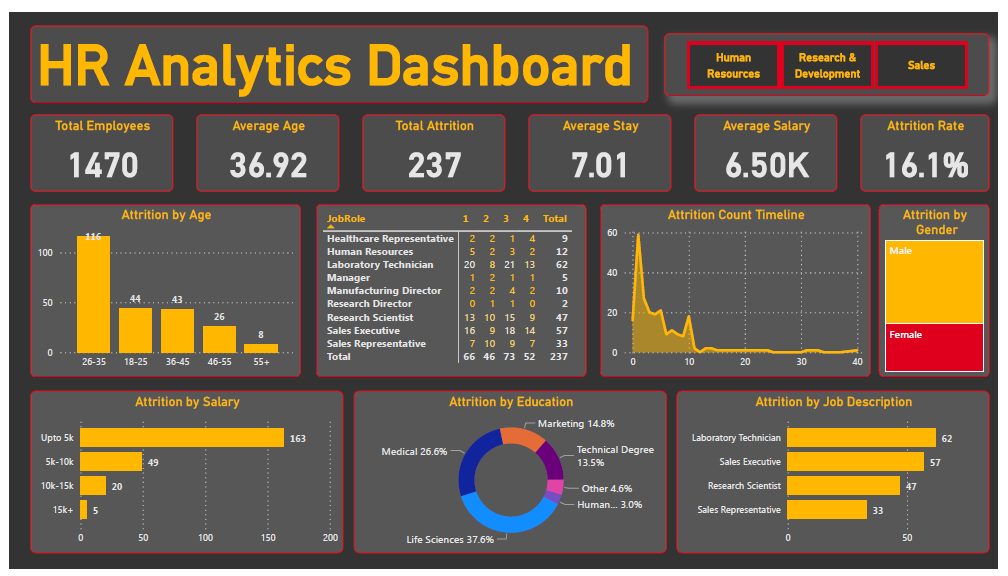

Layout of this report page (visuals, bound fields, positions):
{"tool":"powerbi","page":{"name":"Page 1","canvas":[1280,720],"ordinal":0},"visuals":[{"type":"card","title":"Total Employees","fields":{"Values":["Sum(HR_Analytics.EmployeeCount)"]},"box":[27.4,132,185,100],"z":0},{"type":"card","title":"Total Attrition","fields":{"Values":["Sum(HR_Analytics.Attrion Count)"]},"box":[457.1,132.3,185,99.4],"z":1000},{"type":"card","title":"Attrition Rate","fields":{"Values":["HR_Analytics.Avg Attrion"]},"box":[1101.6,132.3,167,99.4],"z":2000},{"type":"card","title":"Average Age","fields":{"Values":["Avg(HR_Analytics.Age)"]},"box":[242.2,132.3,185,99.4],"z":3000},{"type":"card","title":"Average Salary","fields":{"Values":["Avg(HR_Analytics.MonthlyIncome)"]},"box":[886.8,132.3,185,99.4],"z":4000},{"type":"card","title":"Average Stay","fields":{"Values":["Avg(HR_Analytics.YearsAtCompany)"]},"box":[671.9,132.3,185,99.4],"z":5000},{"type":"donutChart","title":"Attrition by Education","fields":{"Category":["HR_Analytics.EducationField"],"Y":["Sum(HR_Analytics.Attrion Count)"]},"box":[445.7,489.7,405,210],"z":6000},{"type":"columnChart","title":"Attrition by Age","fields":{"Category":["HR_Analytics.AgeGroup"],"Y":["Sum(HR_Analytics.Attrion Count)"]},"box":[27.4,247.7,349.9,224.6],"z":7000},{"type":"pivotTable","fields":{"Rows":["HR_Analytics.JobRole"],"Columns":["HR_Analytics.JobSatisfaction"],"Values":["Sum(HR_Analytics.Attrion Count)"]},"box":[397.4,247.7,349.9,224.6],"z":8000},{"type":"barChart","title":"Attrition by Salary","fields":{"Category":["HR_Analytics.SalarySlab"],"Y":["Sum(HR_Analytics.Attrion Count)"]},"box":[27.4,489.6,405,210.2],"z":9000},{"type":"barChart","title":"Attrition by Job Description","fields":{"Category":["HR_Analytics.JobRole"],"Y":["Sum(HR_Analytics.Attrion Count)"]},"box":[864,489.6,404.6,210.2],"z":10000},{"type":"areaChart","title":"Attrition Count Timeline","fields":{"Category":["HR_Analytics.YearsAtCompany"],"Y":["Sum(HR_Analytics.Attrion Count)"]},"box":[764.6,247.7,349.9,224.6],"z":11000},{"type":"treemap","title":"Attrition by Gender","fields":{"Group":["HR_Analytics.Gender"],"Values":["Sum(HR_Analytics.Attrion Count)"]},"box":[1126.1,247.7,142.6,224.6],"z":12000},{"type":"slicer","fields":{"Values":["HR_Analytics.Department"]},"box":[848.2,27.4,420.5,80.6],"z":13000},{"type":"textbox","box":[27.4,17.3,800,100],"z":14000}]}

Visuals, with their boxes in screenshot pixels (x1, y1, x2, y2), scaled from the page's 1280x720 canvas onto the 1008x576 screenshot:
"Total Employees" card: bbox=(22, 106, 167, 186)
"Total Attrition" card: bbox=(360, 106, 506, 185)
"Attrition Rate" card: bbox=(868, 106, 999, 185)
"Average Age" card: bbox=(191, 106, 336, 185)
"Average Salary" card: bbox=(698, 106, 844, 185)
"Average Stay" card: bbox=(529, 106, 675, 185)
"Attrition by Education" donutChart: bbox=(351, 392, 670, 560)
"Attrition by Age" columnChart: bbox=(22, 198, 297, 378)
pivotTable - HR_Analytics.JobRole x HR_Analytics.JobSatisfaction: bbox=(313, 198, 588, 378)
"Attrition by Salary" barChart: bbox=(22, 392, 341, 560)
"Attrition by Job Description" barChart: bbox=(680, 392, 999, 560)
"Attrition Count Timeline" areaChart: bbox=(602, 198, 878, 378)
"Attrition by Gender" treemap: bbox=(887, 198, 999, 378)
slicer - HR_Analytics.Department: bbox=(668, 22, 999, 86)
textbox: bbox=(22, 14, 652, 94)
